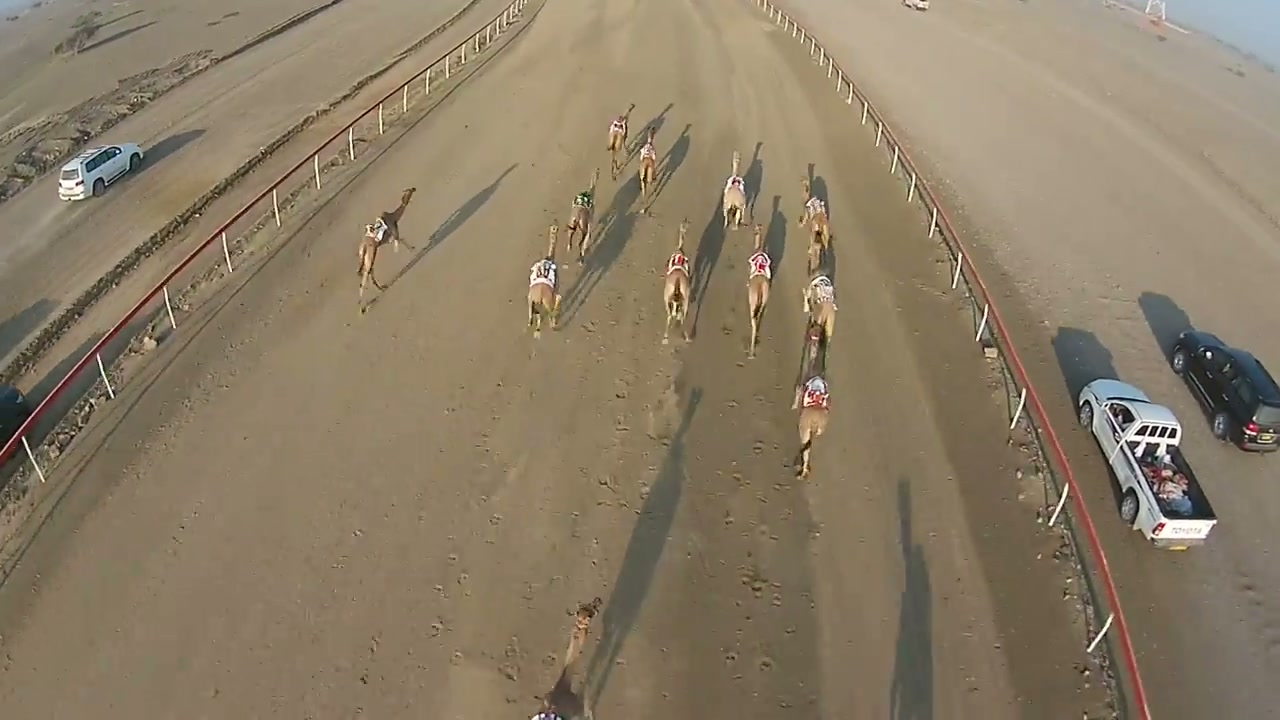animal_foot_print: (413, 355, 529, 691), (713, 378, 802, 718), (586, 293, 684, 542)
